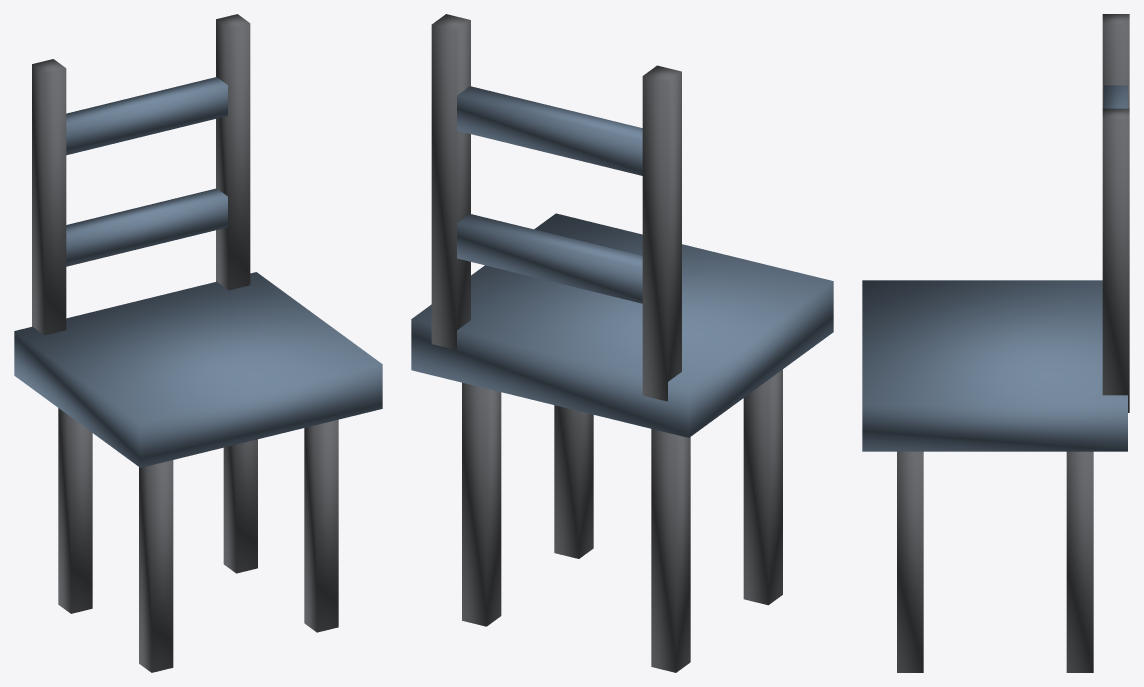
File: interview_chair__compact.glb
3 renders of one model, left to right at view 1: azimuth 30°, elevation 25°; view 2: azimuth 150°, elevation 25°; view 3: azimuth 270°, elevation 25°, orthographic. The views are drawn at different scales.
Visible parts, largest first — view 1: world; view 2: world; view 3: world.
Boxes of the visible parts, <box> form: world: <box>14,14,382,672</box>; world: <box>411,14,833,672</box>; world: <box>862,14,1129,672</box>.
Size of the model in its own units: 0.4231 by 0.8849 by 0.3837.
